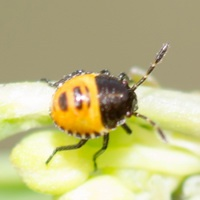insect: (46, 43, 168, 168)
